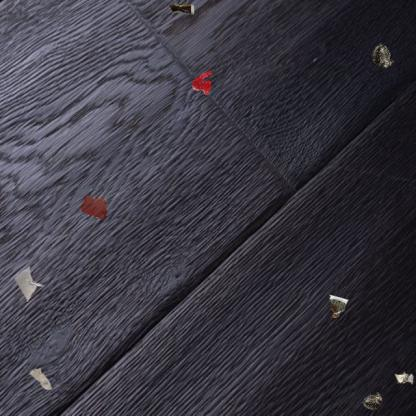dirty: (13, 264, 46, 302), (371, 42, 394, 68), (29, 366, 52, 391), (328, 292, 350, 318), (361, 391, 382, 410), (168, 2, 195, 16), (394, 371, 416, 386)
liquid: (80, 194, 108, 221), (190, 70, 213, 96)
